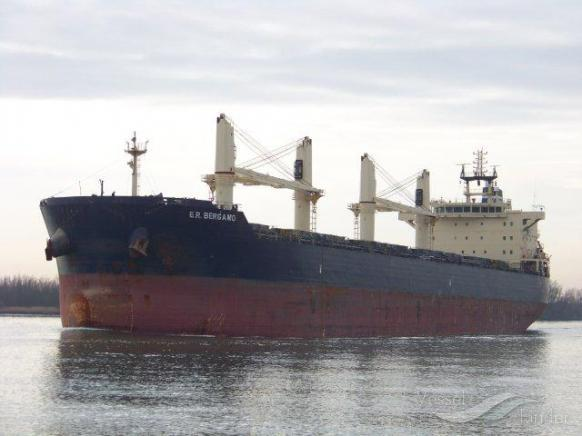OCR: (185, 206, 239, 226)
